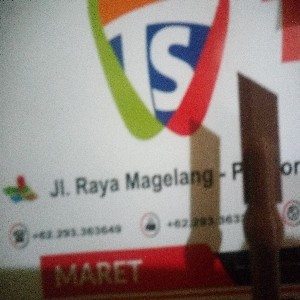cutter: (236, 69, 285, 300)
